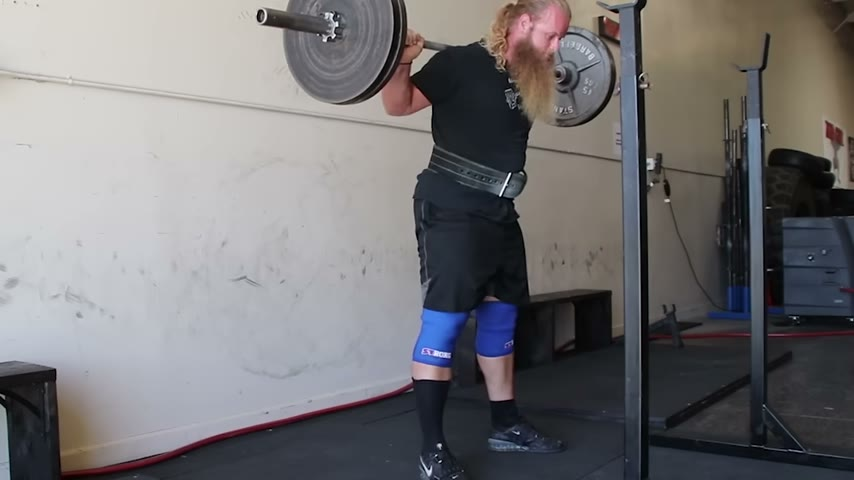barbell_plate_side: (255, 0, 343, 153), (554, 9, 622, 133)
